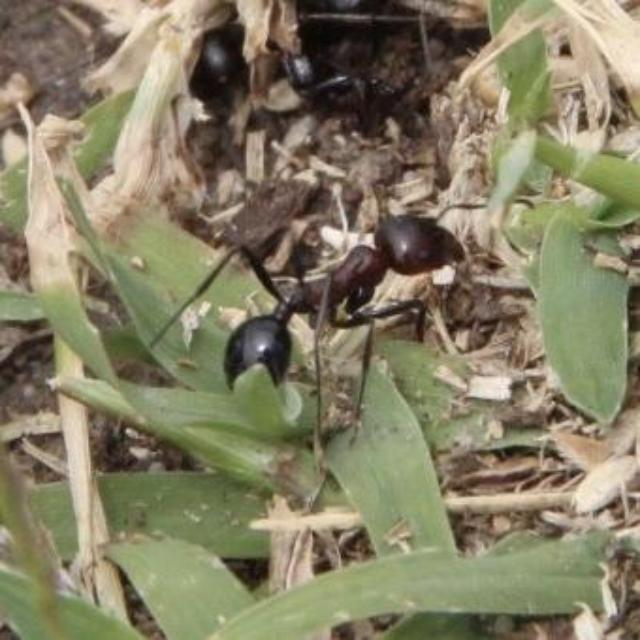Messor: (198, 191, 472, 373), (156, 26, 444, 170)
